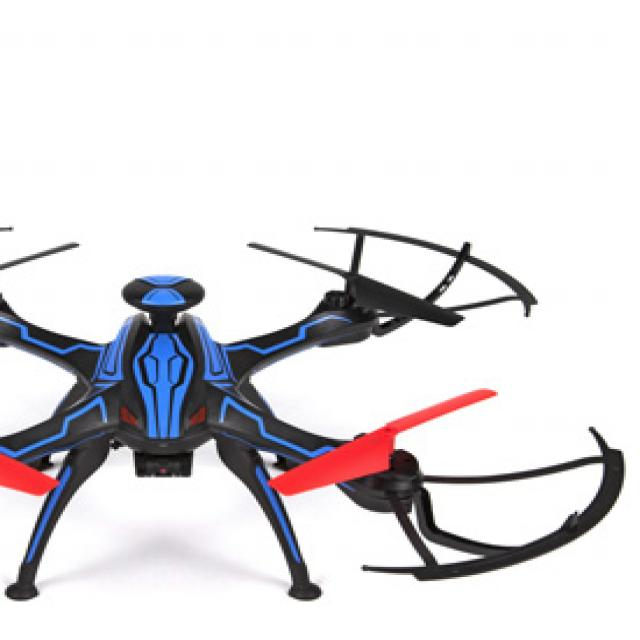drone: (0, 201, 640, 632)
